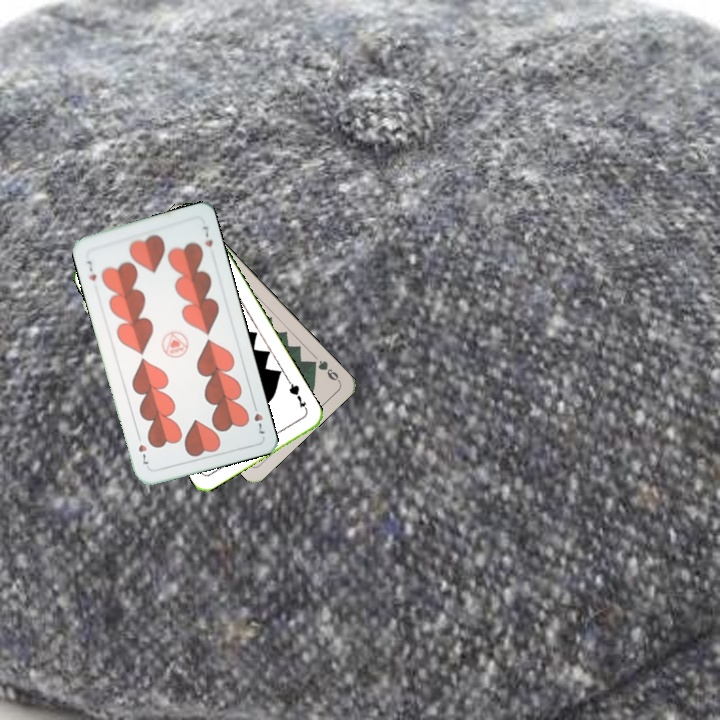G7: (285, 378, 310, 415)
G9: (306, 356, 342, 384)
H7: (249, 398, 267, 438), (83, 256, 99, 283)
